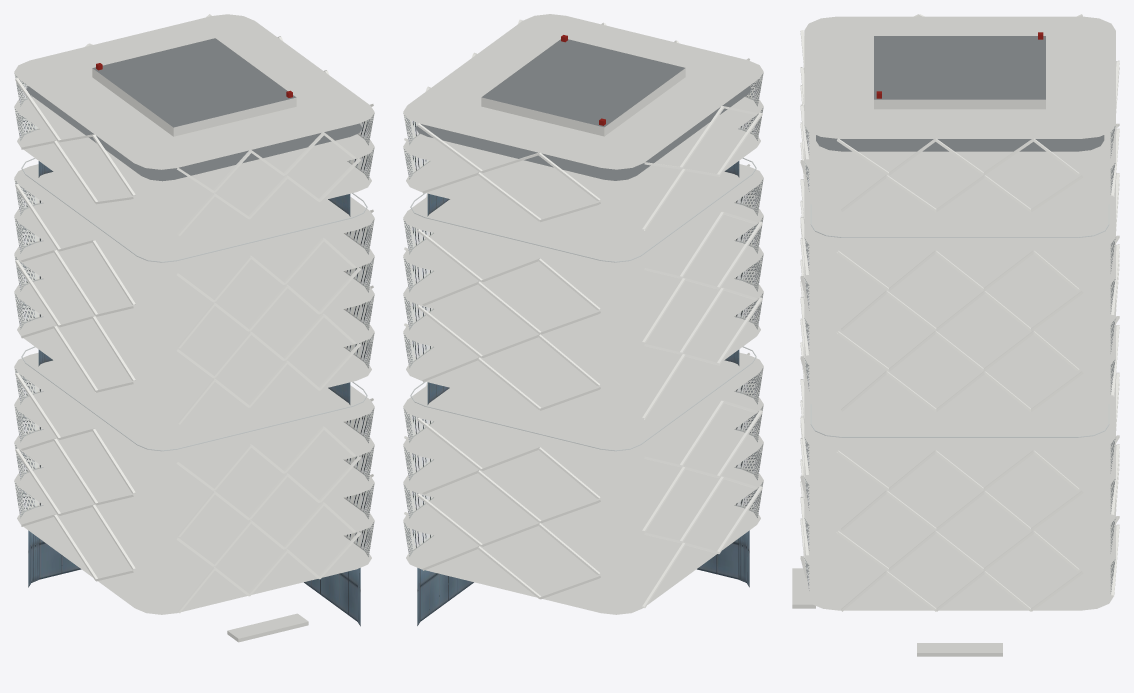
The model's file is ginza_place.glb.
The picture shows the model from 3 angles, left to right: view 1: azimuth 30°, elevation 25°; view 2: azimuth 150°, elevation 25°; view 3: azimuth 270°, elevation 25°; orthographic projection. The views are drawn at different scales.
Parts seen in each view (by area): view 1: ginza_place; view 2: ginza_place; view 3: ginza_place.
Boxes of the visible parts, x1,y1,x2,y2 form: ginza_place: [14, 14, 374, 642]; ginza_place: [403, 14, 763, 625]; ginza_place: [792, 14, 1119, 656].
Bounding box in the file's own units: 28.4 × 57.5 × 30.44.
Materials: 2 (2 with a texture image).
